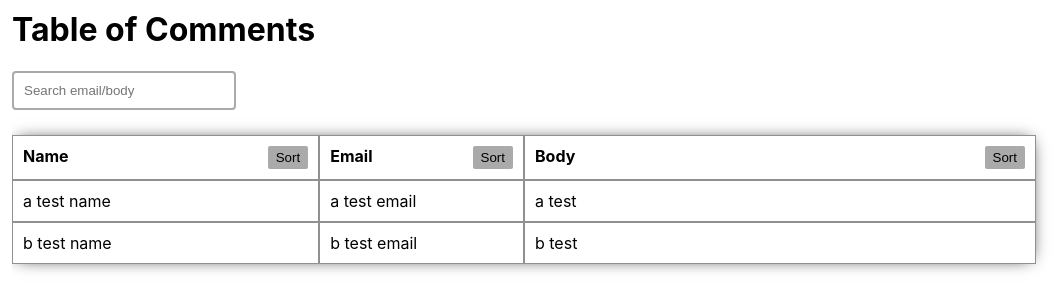
it: search email
The width and height of the screenshot is (1061, 289).
In the field with placeholder "Search email/body": (124, 90) [12,71,236,110], type "a test email"
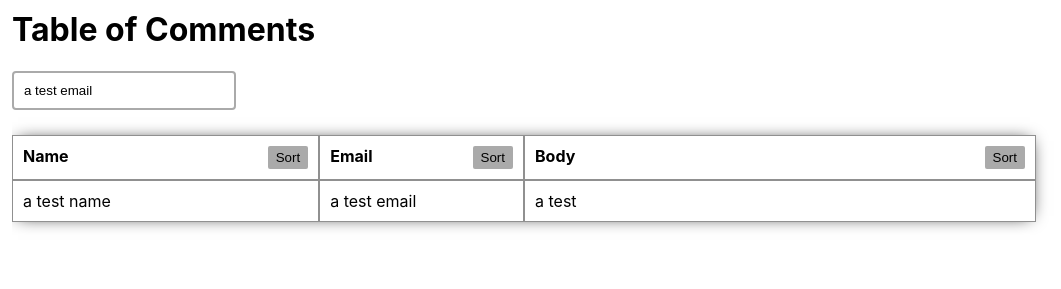
Expected: the text "a test name" is shown, [12,180,319,222]
Now the text "b test name" is gone
